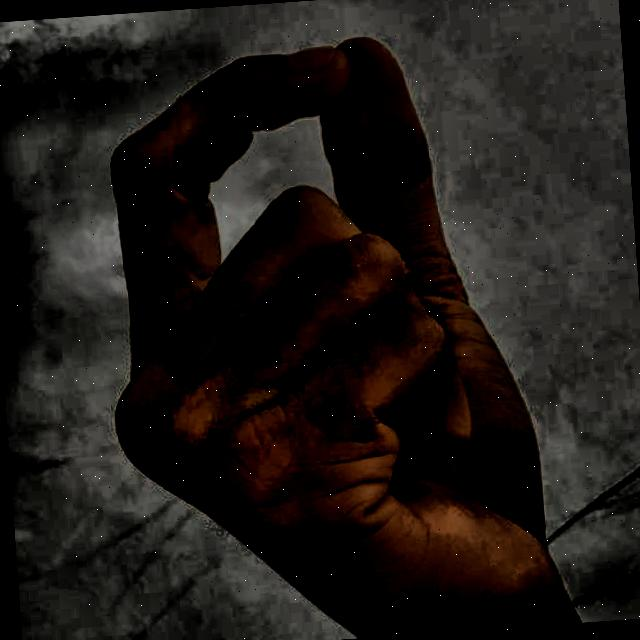Gha: (45, 7, 612, 640)
